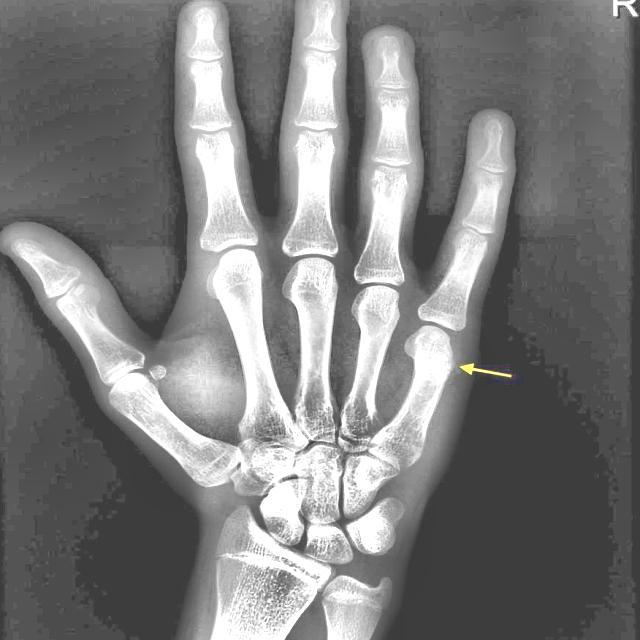fracture: (408, 347, 444, 372)
